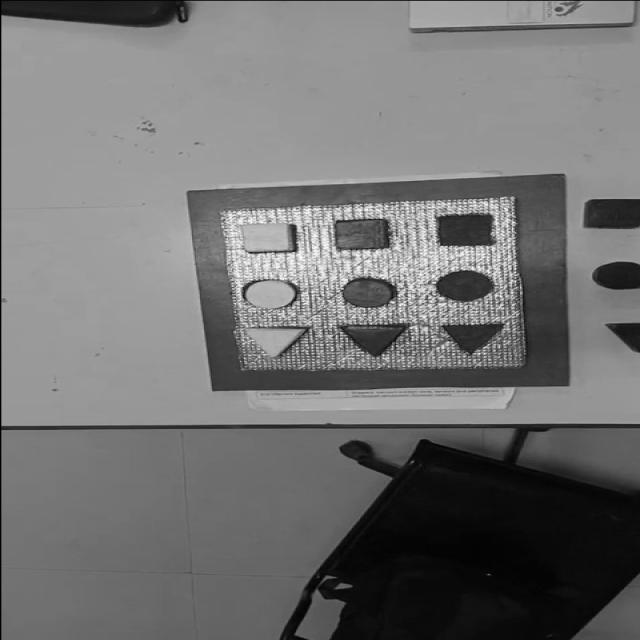bcircle: (591, 260, 640, 290)
bcube: (582, 198, 640, 230)
btriangle: (605, 322, 640, 354)
mtcircle: (434, 269, 495, 302)
mtcube: (435, 213, 496, 247)
mttriangle: (438, 322, 506, 355)
rcircle: (341, 277, 396, 308)
rcube: (333, 219, 389, 250)
rtriangle: (340, 324, 408, 357)
wb: (219, 197, 529, 371)
ycircle: (240, 278, 299, 310)
ycube: (240, 223, 295, 253)
ytriangle: (242, 326, 308, 359)
